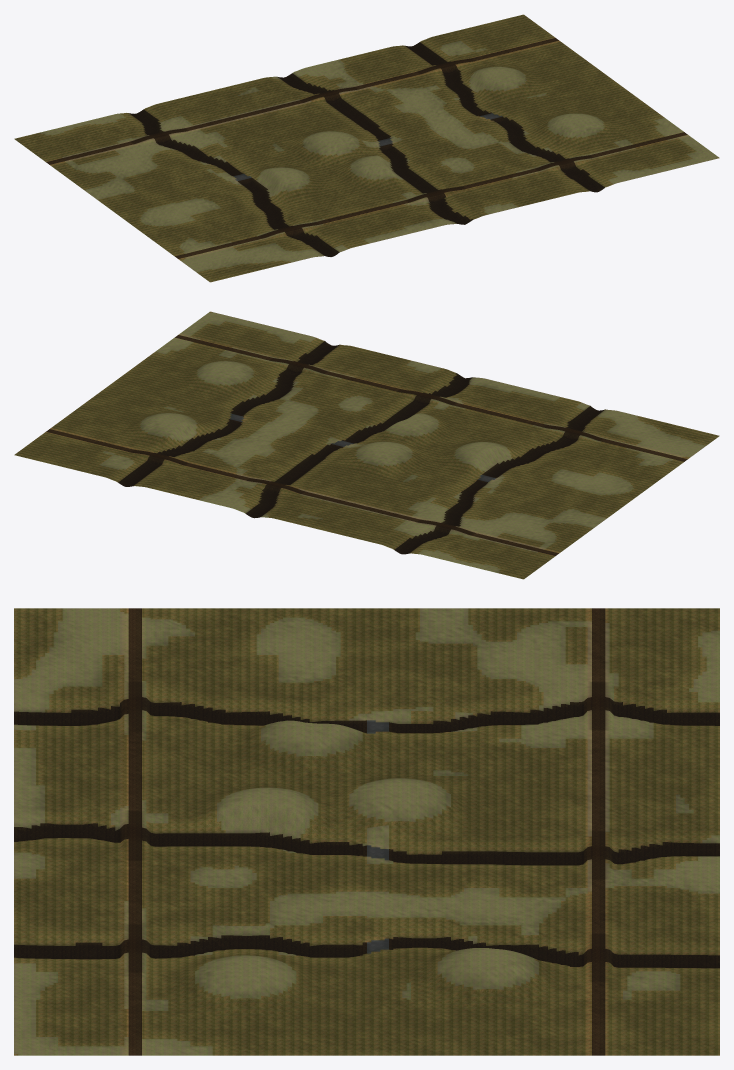
The model's file is terrain.glb.
3 renders of one model, top to bottom at view 1: azimuth 30°, elevation 25°; view 2: azimuth 150°, elevation 25°; view 3: azimuth 270°, elevation 25°, orthographic. The views are drawn at different scales.
Parts seen in each view (by area): view 1: Continuous wide terrain; view 2: Continuous wide terrain; view 3: Continuous wide terrain.
Part boxes in pixels (x1,y1,x2,y2): Continuous wide terrain: [14, 14, 719, 282]; Continuous wide terrain: [14, 311, 719, 579]; Continuous wide terrain: [14, 608, 719, 1055].
Bounding box in the file's own units: 240 × 6.67 × 160.
Materials: 4 (4 with a texture image).
